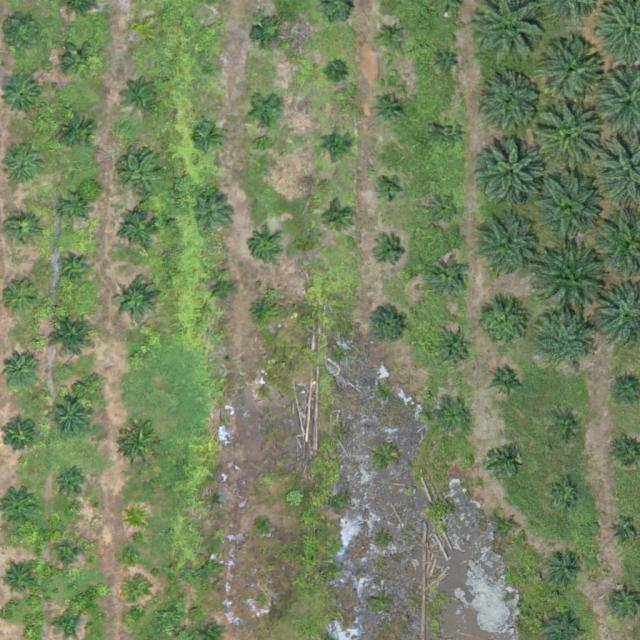Healthy: (537, 248, 607, 319), (534, 175, 604, 246), (536, 102, 606, 173), (474, 220, 537, 283), (541, 38, 603, 101), (482, 142, 544, 204), (45, 310, 100, 365), (485, 77, 539, 132), (538, 314, 592, 369), (64, 196, 87, 220)
Small: (475, 298, 530, 353), (113, 279, 160, 327), (47, 392, 94, 439), (2, 148, 42, 188), (193, 194, 233, 234), (369, 304, 409, 344), (120, 424, 160, 464), (58, 113, 97, 153), (126, 79, 165, 119), (490, 362, 529, 402), (2, 76, 41, 115), (431, 261, 470, 300), (435, 330, 474, 369), (121, 212, 160, 251), (122, 156, 161, 195), (547, 551, 586, 590), (57, 253, 88, 285), (321, 202, 352, 234), (373, 236, 404, 268), (50, 608, 81, 640), (207, 273, 238, 305), (246, 295, 277, 327), (7, 215, 38, 246), (52, 471, 83, 502), (440, 405, 471, 436), (487, 445, 518, 476), (435, 119, 466, 150), (322, 130, 353, 161), (252, 95, 283, 126), (65, 46, 96, 77), (194, 122, 225, 153), (249, 231, 280, 262), (253, 20, 284, 51), (551, 480, 582, 511), (551, 411, 582, 442), (376, 22, 407, 53), (428, 193, 459, 224), (375, 93, 406, 124), (53, 542, 84, 573), (377, 177, 401, 201), (497, 515, 521, 539), (124, 506, 148, 530), (612, 521, 636, 545), (125, 582, 149, 606), (198, 556, 222, 580), (204, 490, 227, 514), (202, 60, 218, 76), (130, 351, 146, 367), (439, 56, 454, 72), (255, 384, 270, 400), (328, 65, 343, 80), (137, 22, 152, 37), (257, 515, 272, 530)
